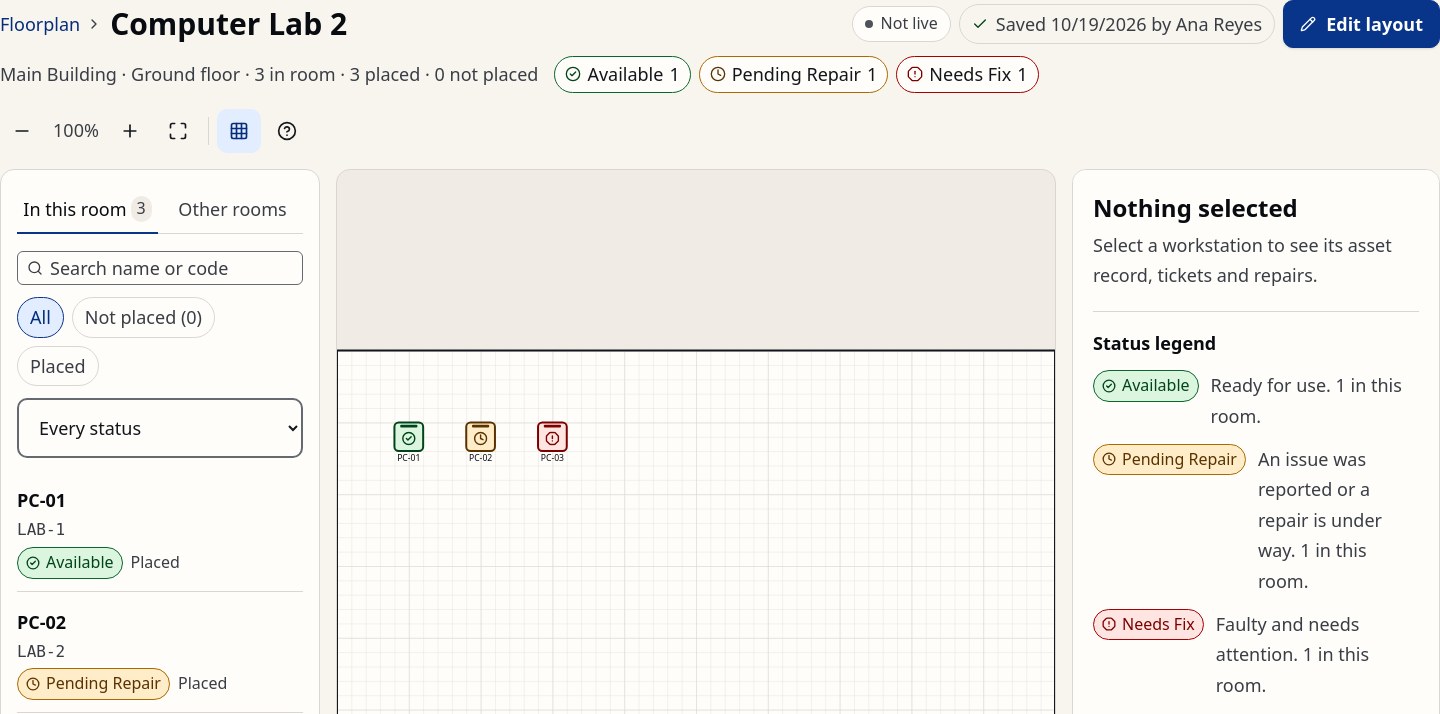
editing and saving › never overwrites a newer save — it shows what changed and lets the administrator combine
Expected: the heading "Computer Lab 2" is shown, [110,3,347,45]
Click the button "Edit layout". click: [1362, 24]
box: [1283,0,1439,48]
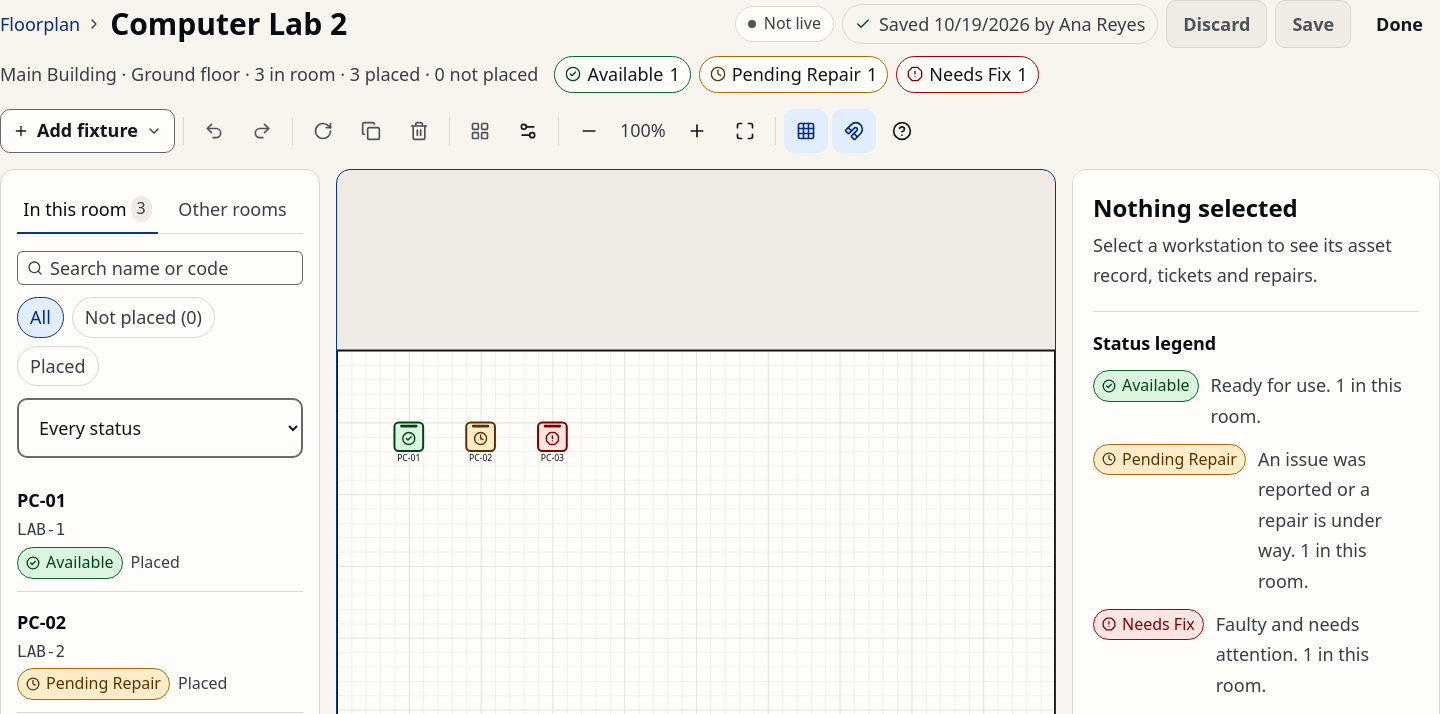
Press Enter in the element with test id "floor-plan-node", box [397,432,420,464]
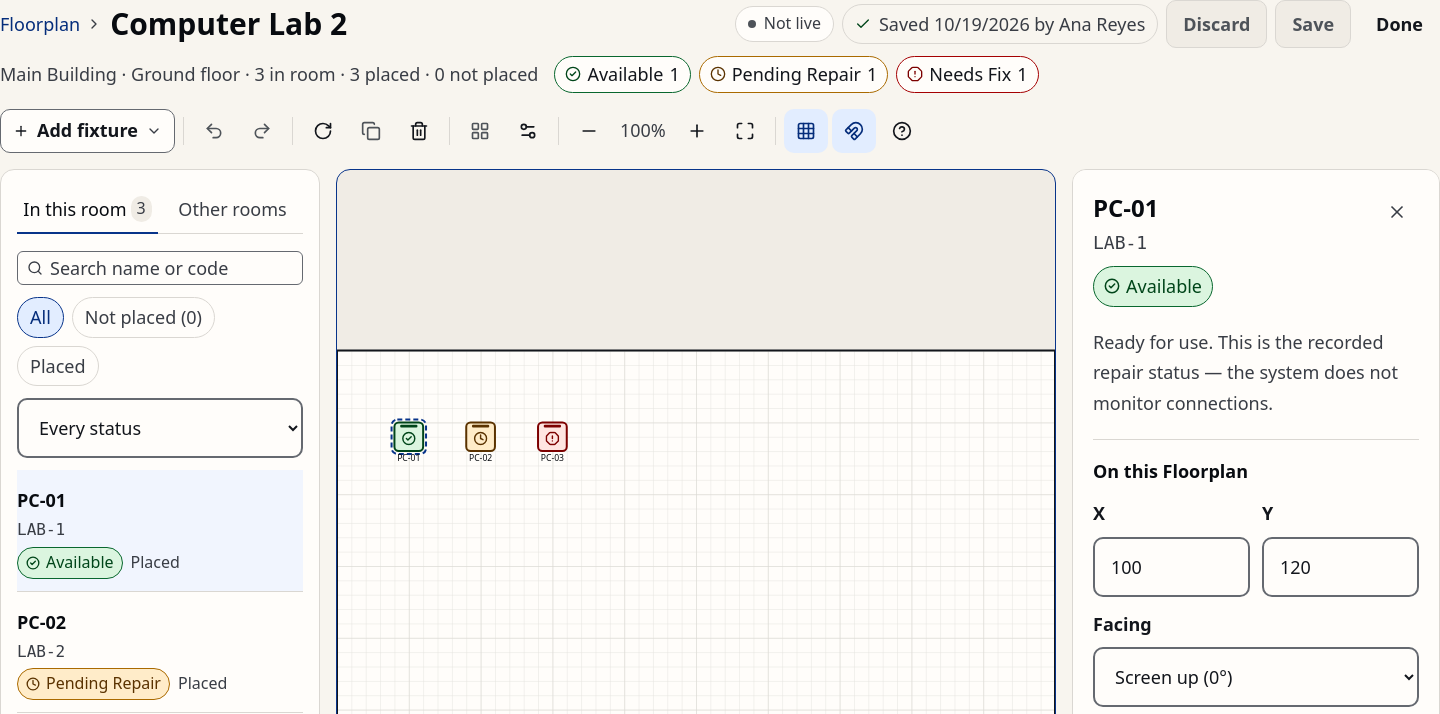
Press ArrowDown
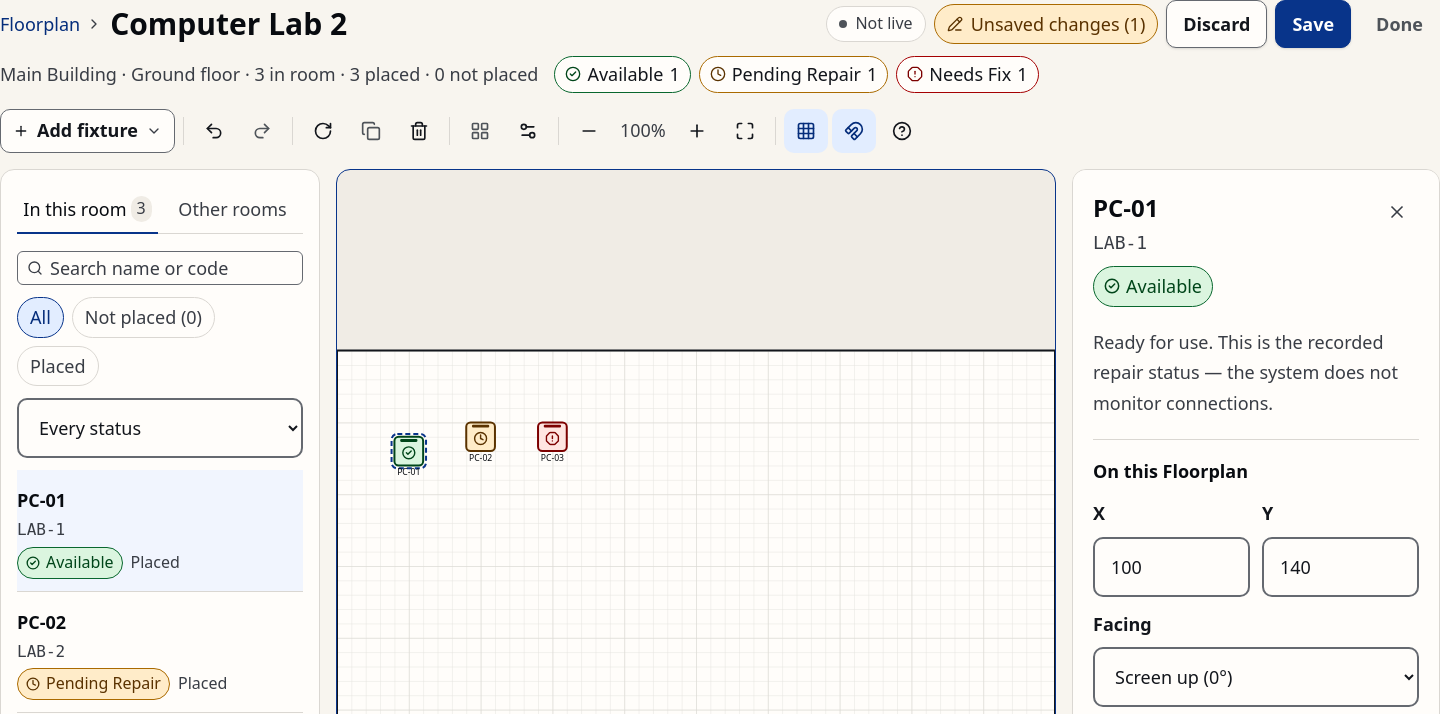
Click the button "Save". click: [1313, 24]
box: [1275,0,1351,48]
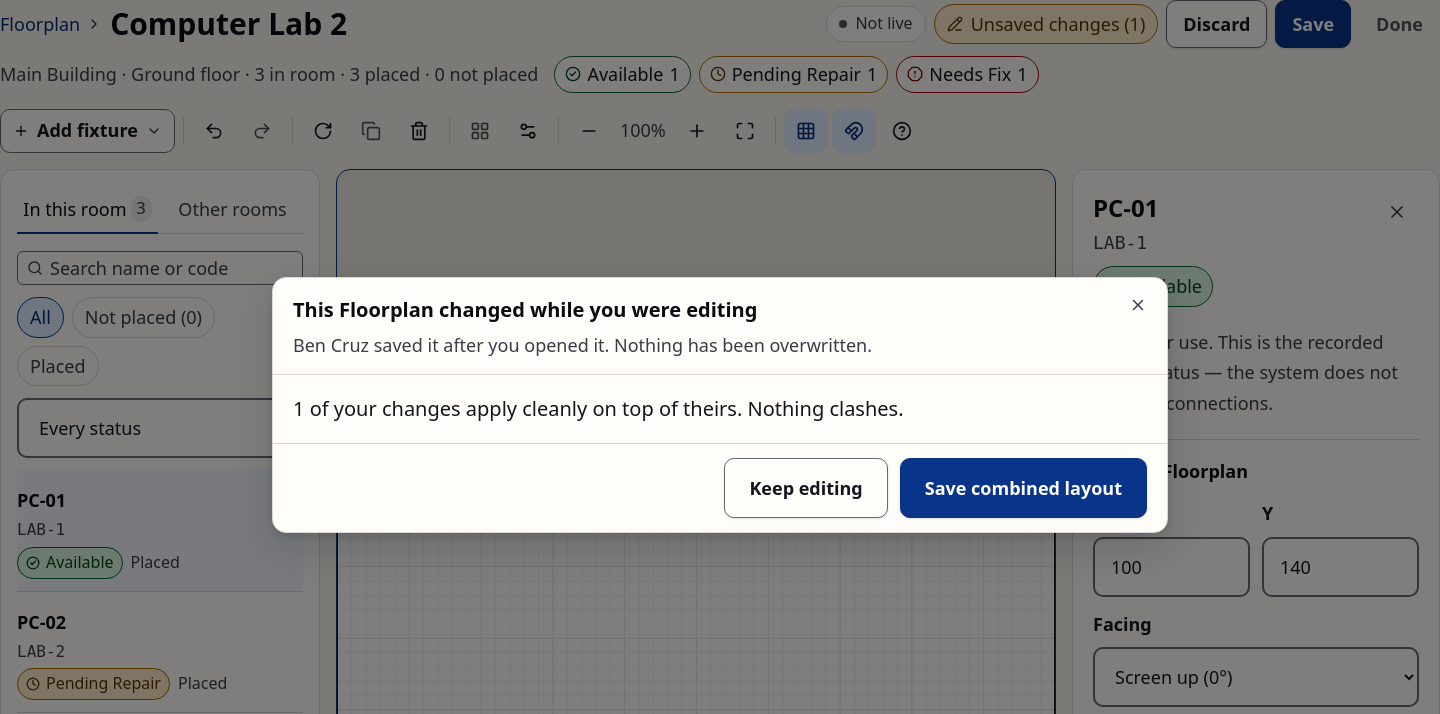
Expected: the text "Ben Cruz saved it after you opened it" is shown, [293,333,872,357]
Expected: the text "1 of your changes apply cleanly" is shown, [293,395,742,422]
